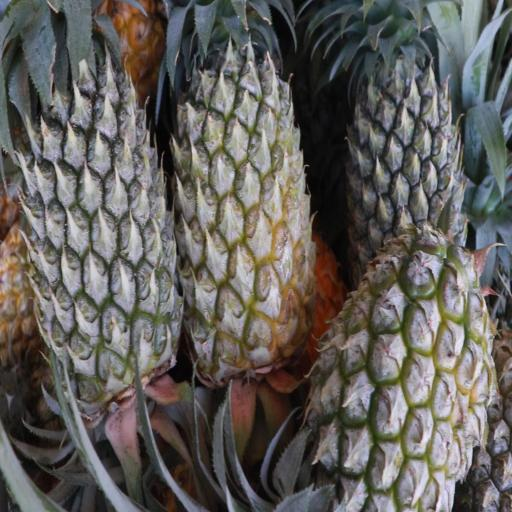------------------------------: (173, 14, 308, 368), (314, 250, 488, 512)
